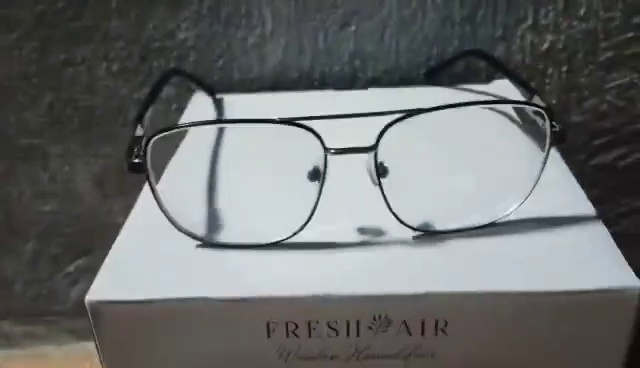glasses: (125, 51, 570, 250)
